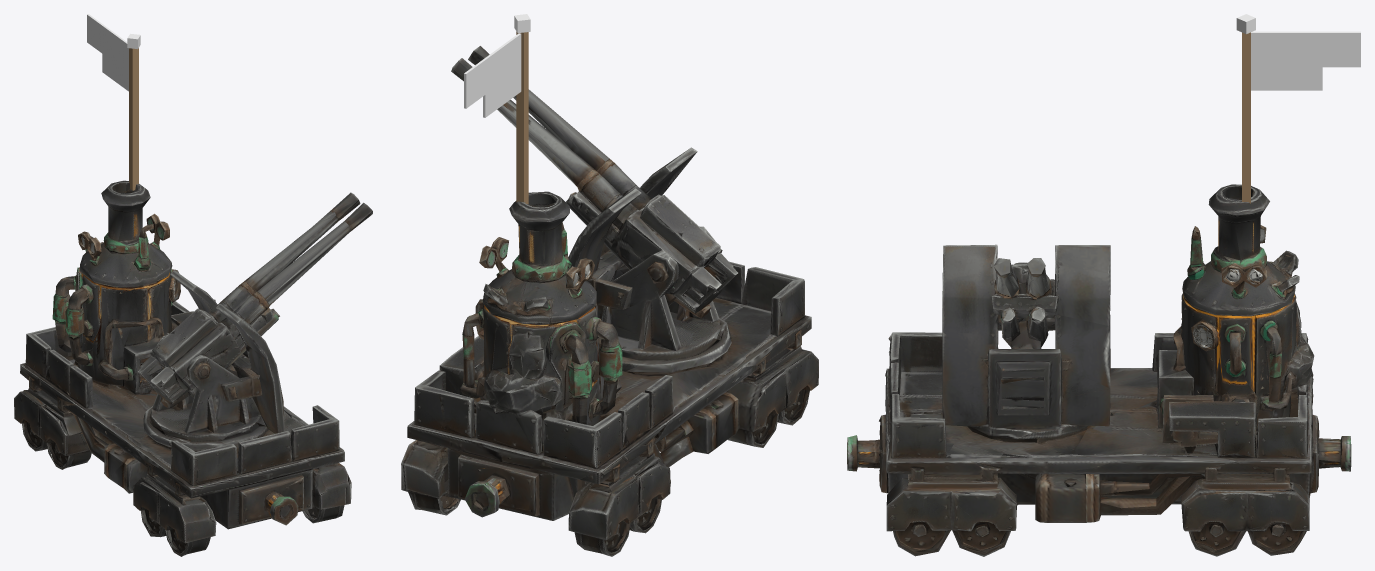
The model's file is flak_wagon.glb.
3 renders of one model, left to right at view 1: azimuth 30°, elevation 25°; view 2: azimuth 150°, elevation 25°; view 3: azimuth 270°, elevation 25°, orthographic. The views are drawn at different scales.
Parts seen in each view (by area): view 1: flak_wagon, Team_pennant; view 2: flak_wagon, Team_pennant; view 3: flak_wagon, Team_pennant.
Boxes of the visible parts, x1,y1,x2,y2 form: flak_wagon: [14, 180, 372, 556]; Team_pennant: [87, 14, 140, 190]; flak_wagon: [401, 46, 818, 556]; Team_pennant: [464, 14, 530, 204]; flak_wagon: [847, 184, 1351, 556]; Team_pennant: [1236, 14, 1360, 203].
Size of the model in its own units: 1.27 by 2.07 by 1.93.
3 materials, 1 textured.
